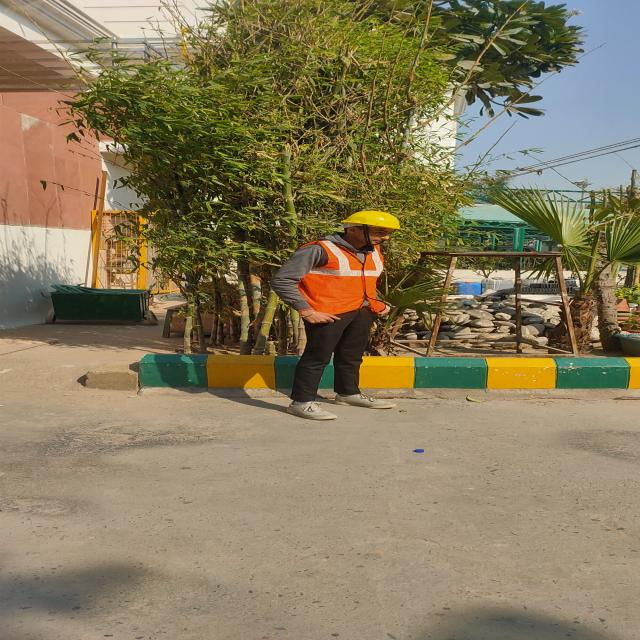safe: (272, 211, 401, 420)
